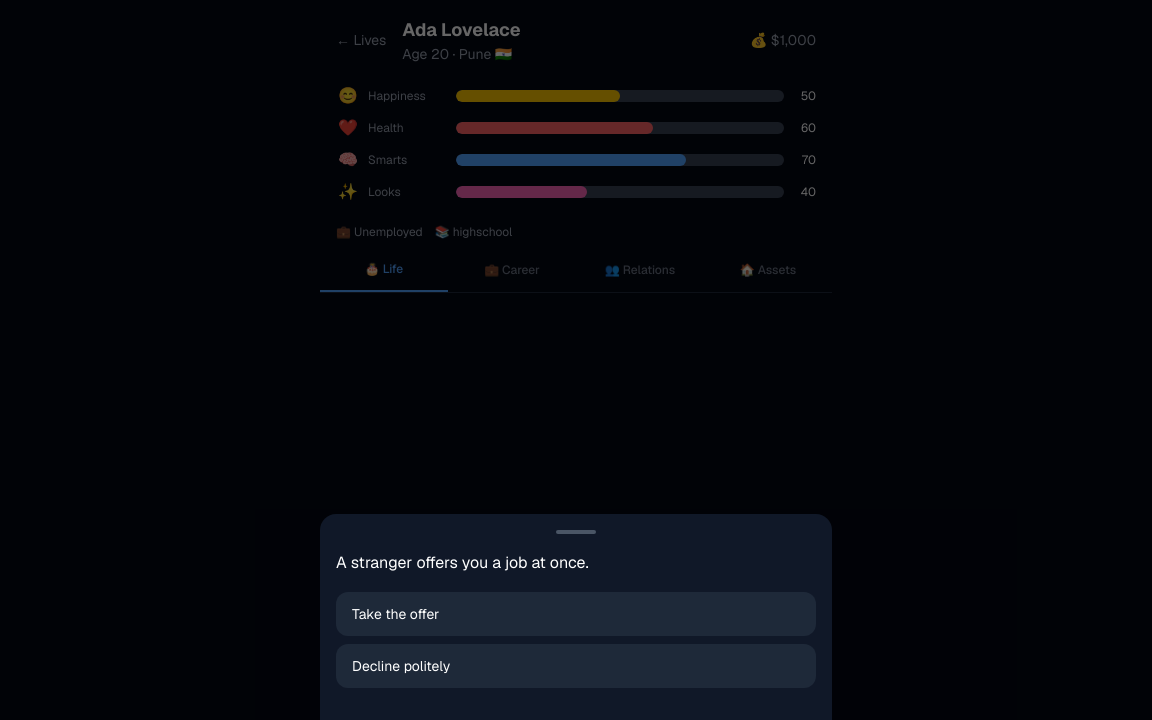
Test: GameDashboard › keeps the modal open and shows an error when the choice fails
Click the button "Decline politely" at (401, 666), box [336, 644, 816, 688]
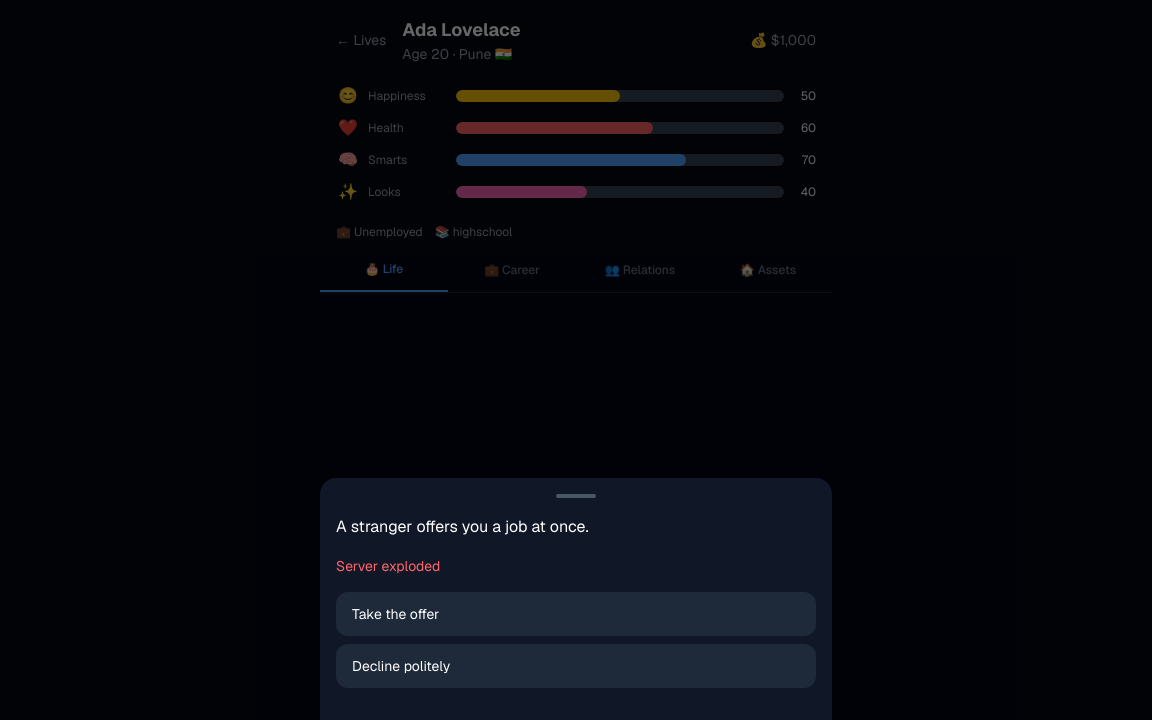
Expected: the text "A stranger offers you a job at once." is shown, [336, 516, 589, 537]
Expected: the text "Server exploded" is shown, [336, 557, 440, 575]
